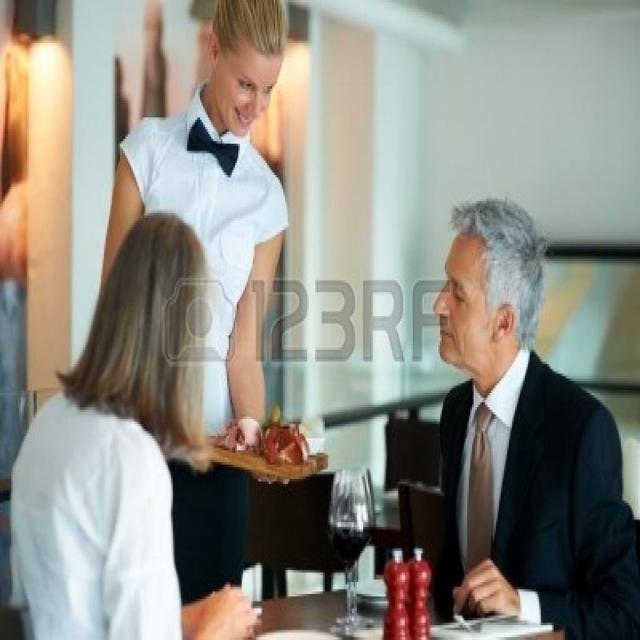nomask: (435, 234, 493, 365), (216, 32, 285, 136)
